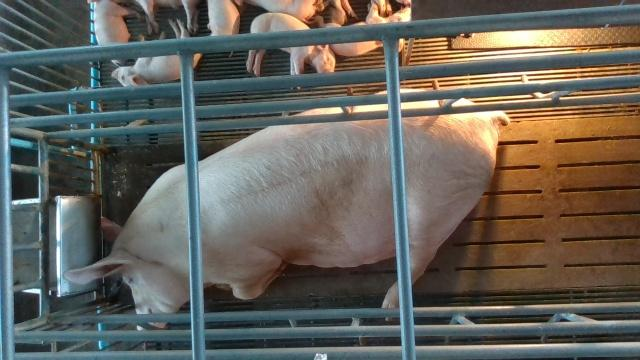piglet: (112, 17, 201, 86), (246, 13, 335, 77), (314, 3, 411, 56), (95, 0, 140, 65), (243, 0, 332, 24), (208, 0, 241, 35)
sow-sleep: (63, 89, 510, 332)
